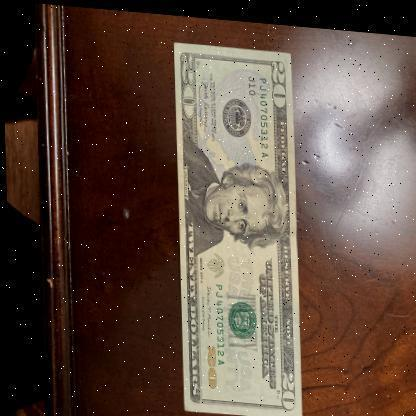twenty-front: (172, 39, 300, 416)
